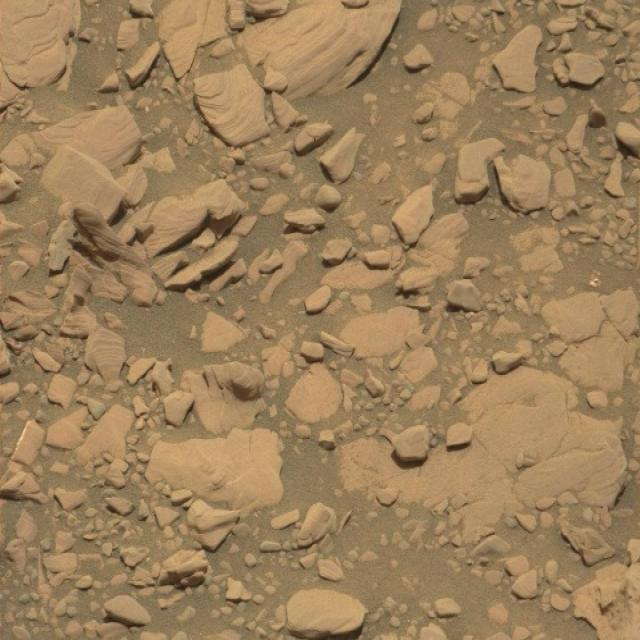mars-rocks: (195, 63, 271, 146), (287, 591, 368, 640), (495, 154, 552, 214), (494, 24, 544, 92), (456, 138, 506, 204), (320, 127, 366, 183), (84, 328, 126, 384), (158, 551, 209, 588), (46, 407, 88, 450), (125, 41, 160, 86), (10, 421, 45, 466), (104, 596, 151, 628), (393, 426, 432, 464), (295, 121, 334, 155), (566, 53, 606, 86), (396, 267, 441, 293), (449, 280, 484, 312), (163, 391, 194, 427), (47, 375, 77, 410), (284, 208, 327, 232), (314, 184, 342, 212)
